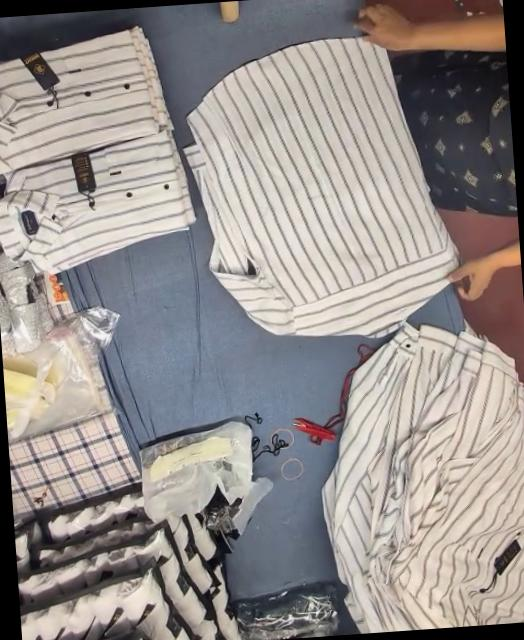new-garment: (185, 38, 456, 335)
